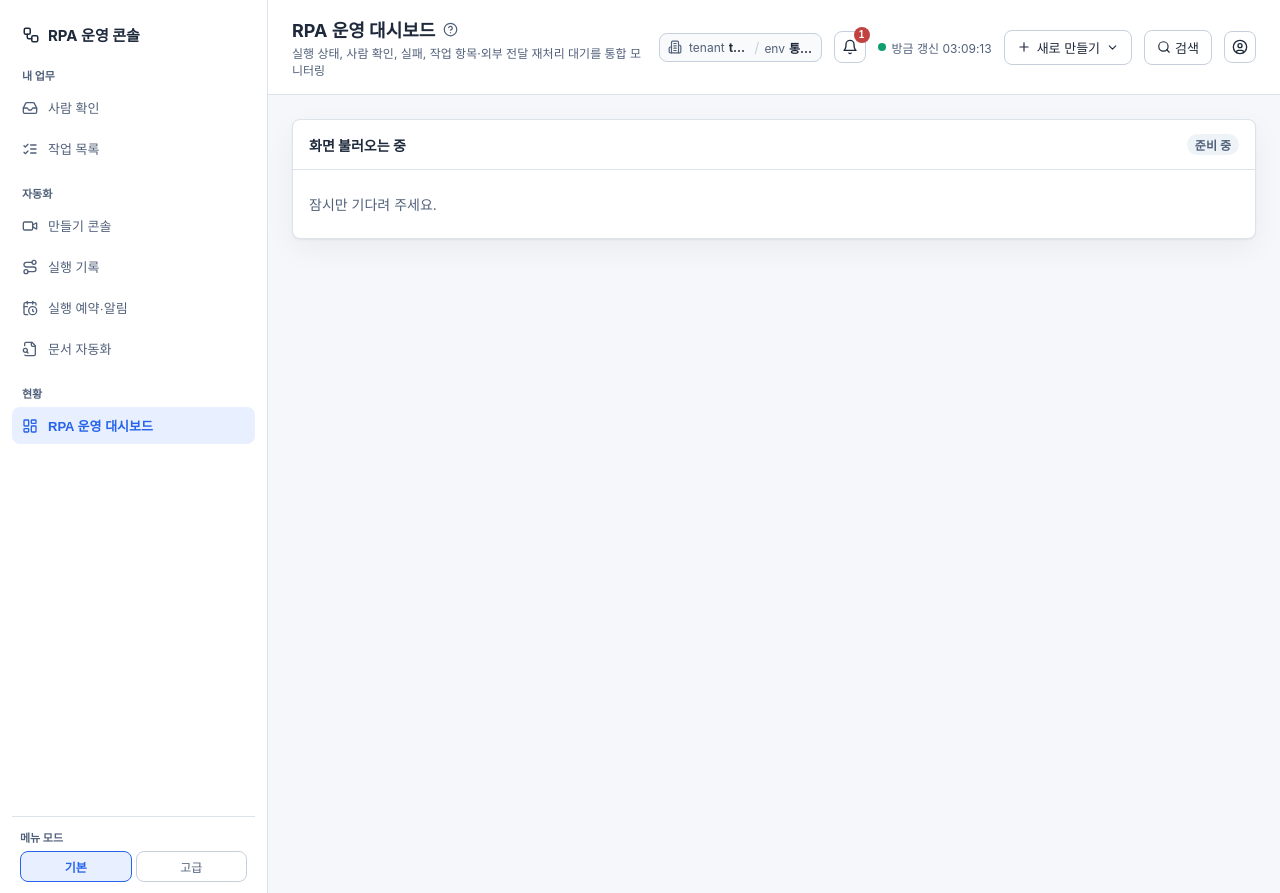
Test: topbar alert bell › readiness blocked surfaces on the bell, and clicking opens the preview popover (no immediate navigation)
Click the button named "알림 — 운영 전환 준비 차단 2건" at [850, 47], box [834,31,866,63]
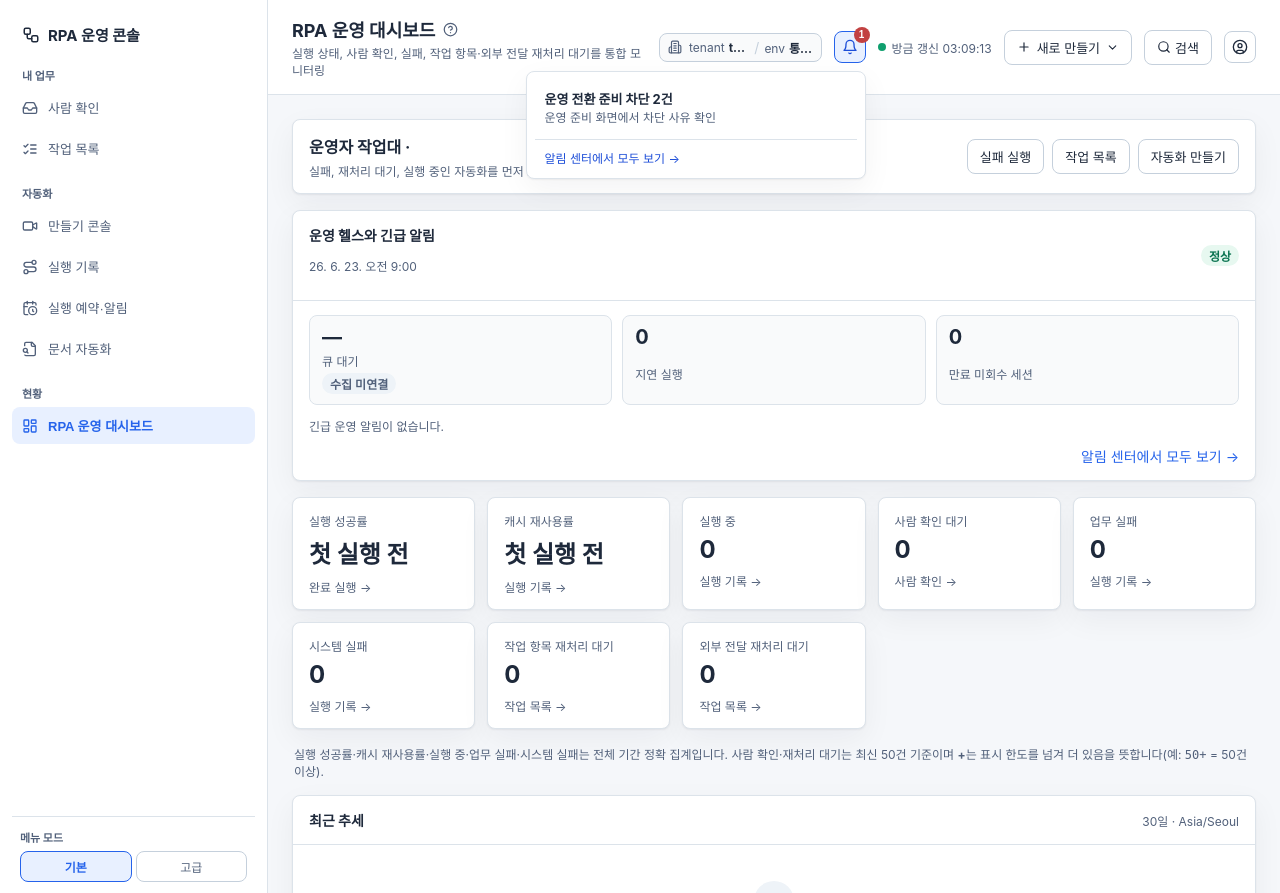
expect the button named "알림 — 운영 전환 준비 차단 2건" is expanded: met, box [834,31,866,63]
expect the menu item "운영 전환 준비 차단 2건 운영 준비 화면에서 차단 사유 확인" is shown: met, box [534,80,856,135]
